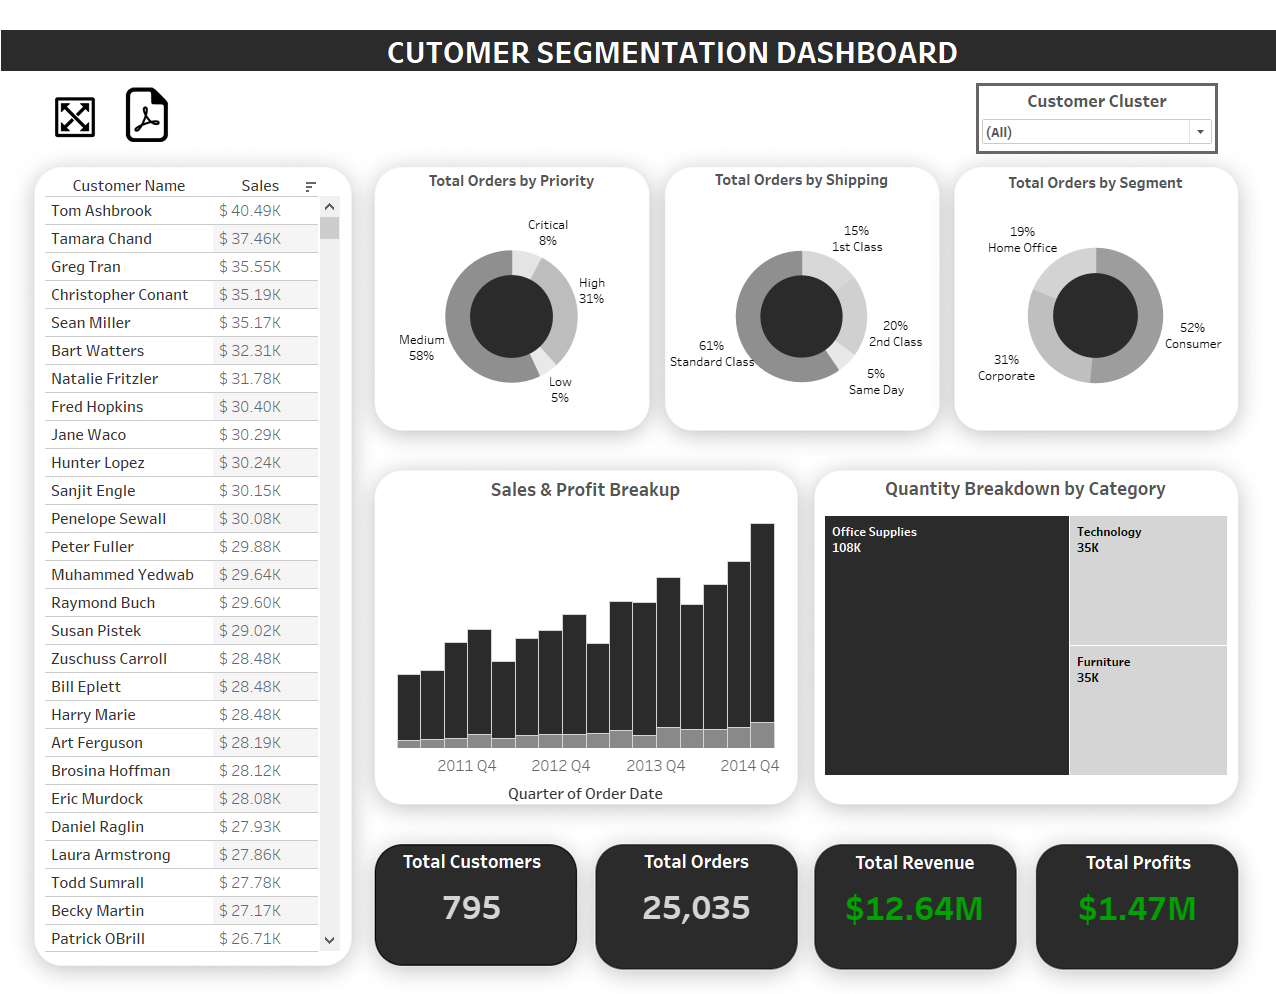

The page's visual inventory and layout, read from the dashboard file:
{"tool":"tableau","page":{"name":"Customer Analysis Dashboard","canvas":[1367,1007],"ordinal":0},"visuals":[{"type":"title","box":[8,8,1351,49]},{"type":"image","param":"E:/DataAnalytics/Python/Portfolio datasets/Customer Segmentation/CustomerSegment","box":[8,57,1351,942]},{"type":"dashboard-object","box":[63,63,45,72]},{"type":"filter","title":"Quantity Breakdown by Category","param":"[federated.1qnuz3q0zn1xx11gxllty1ndcbgw].[none:Kmeans_Cluster:nk]","box":[987,65,242,71]},{"type":"dashboard-object","box":[118,69,79,55]},{"type":"worksheet","title":"Full Order Details","mark":"Automatic","rows":["CustomerName","Segment","Calculation_944067097583546368","Quantity","Sales"],"box":[41,141,668,812]},{"type":"worksheet","title":"Total Orders by Shipping Mode","mark":"Pie","rows":["Calculation_944067097598013442","Calculation_944067097598038020"],"box":[681,147,263,267]},{"type":"worksheet","title":"Total Orders by Priority","mark":"Pie","rows":["Calculation_944067097598013442","Calculation_944067097598038020"],"box":[390,148,265,265]},{"type":"worksheet","title":"Total Orders by Segment","mark":"Pie","rows":["Calculation_944067097598013442","Calculation_944067097598038020"],"box":[971,150,271,259]},{"type":"worksheet","title":"Mini Details","mark":"Automatic","rows":["CustomerName","Sales"],"box":[56,158,295,776]},{"type":"worksheet","title":"Quantity Breakdown by Category","mark":"Automatic","box":[831,453,411,322]},{"type":"worksheet","title":"Sales & Profit Breakup","mark":"Line","rows":["Sales","Profit"],"cols":["OrderDate"],"box":[389,454,415,339]},{"type":"worksheet","title":"Top Customer","mark":"Automatic","box":[404,822,316,125]},{"type":"worksheet","title":"Total Orders Placed","mark":"Automatic","box":[790,822,177,126]},{"type":"worksheet","title":"Total Revenue","mark":"Automatic","box":[1048,822,171,126]}]}

Visuals, with their boxes on the page's 1367x1007 design canvas (x1, y1, x2, y2). These are canvas units, not pixel positions in the 1276x994 screenshot, which may show the page scaled, cropped or inside an application window:
title: box=[8, 8, 1359, 57]
image: box=[8, 57, 1359, 999]
dashboard-object: box=[63, 63, 108, 135]
"Quantity Breakdown by Category" filter: box=[987, 65, 1229, 136]
dashboard-object: box=[118, 69, 197, 124]
"Full Order Details" worksheet: box=[41, 141, 709, 953]
"Total Orders by Shipping Mode" worksheet (Pie marks): box=[681, 147, 944, 414]
"Total Orders by Priority" worksheet (Pie marks): box=[390, 148, 655, 413]
"Total Orders by Segment" worksheet (Pie marks): box=[971, 150, 1242, 409]
"Mini Details" worksheet: box=[56, 158, 351, 934]
"Quantity Breakdown by Category" worksheet: box=[831, 453, 1242, 775]
"Sales & Profit Breakup" worksheet (Line marks): box=[389, 454, 804, 793]
"Top Customer" worksheet: box=[404, 822, 720, 947]
"Total Orders Placed" worksheet: box=[790, 822, 967, 948]
"Total Revenue" worksheet: box=[1048, 822, 1219, 948]
